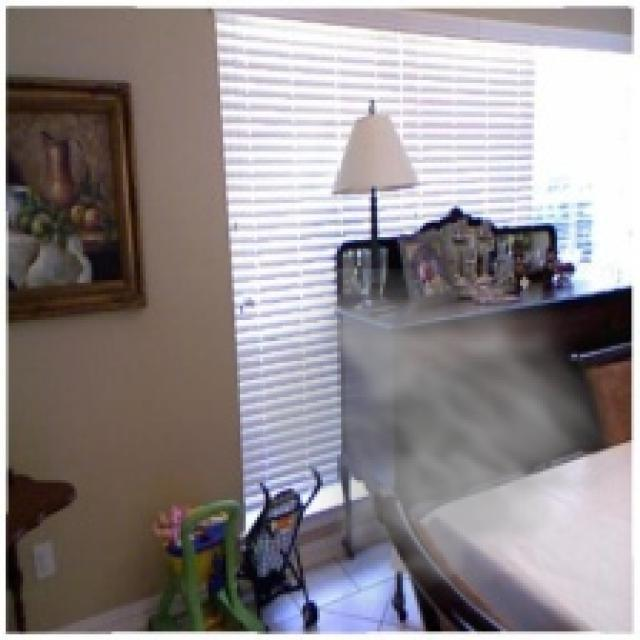Smoke: (228, 268, 634, 623)
